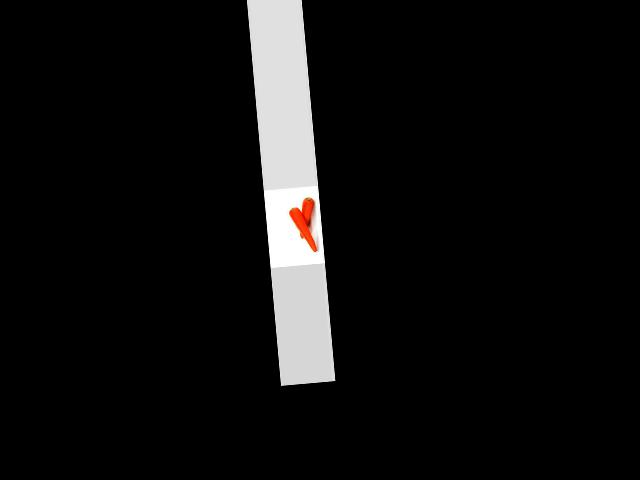carrot: (294, 194, 318, 242)
